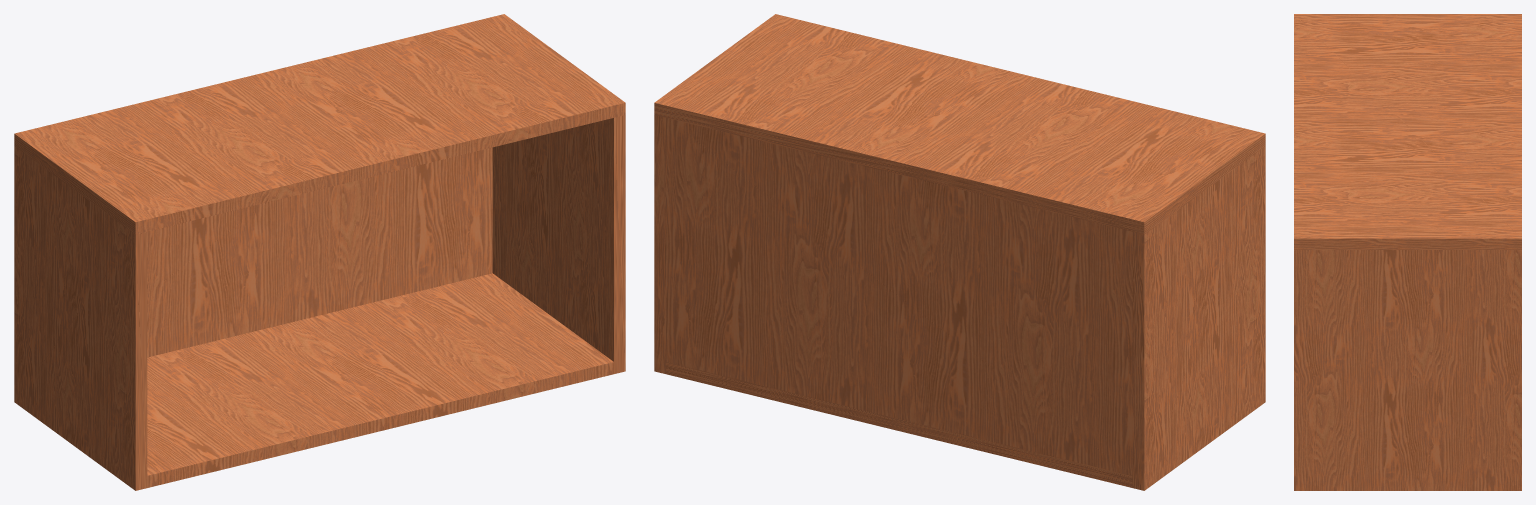
File: IkeaWallCupboard.fbx
The picture shows the model from 3 angles, left to right: view 1: azimuth 30°, elevation 25°; view 2: azimuth 150°, elevation 25°; view 3: azimuth 270°, elevation 25°; orthographic projection. The views are drawn at different scales.
Visible parts, largest first — view 1: IkeaWall; view 2: IkeaWall; view 3: IkeaWall.
Part boxes in pixels (box(x1,y1,x2,y2)): IkeaWall: box(14, 14, 625, 490); IkeaWall: box(654, 14, 1265, 490); IkeaWall: box(1294, 14, 1521, 490).
Bounding box in the file's own units: 84 × 44 × 36.
2 materials, 1 textured.
